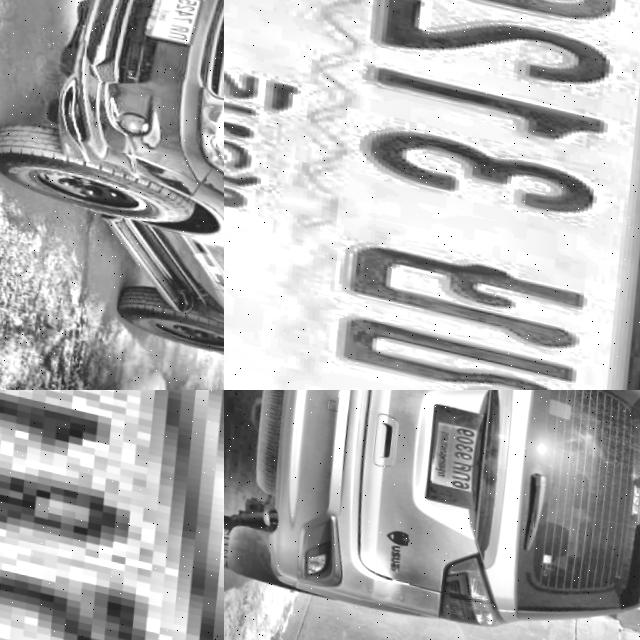license-plate: (224, 0, 640, 390), (0, 390, 224, 640), (424, 411, 483, 488), (135, 0, 204, 44)
